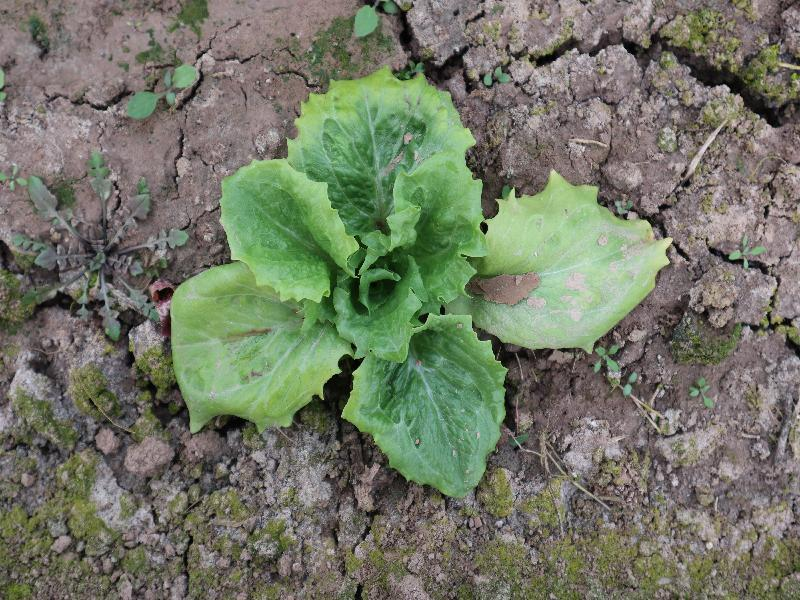lettuce: (167, 63, 674, 498)
